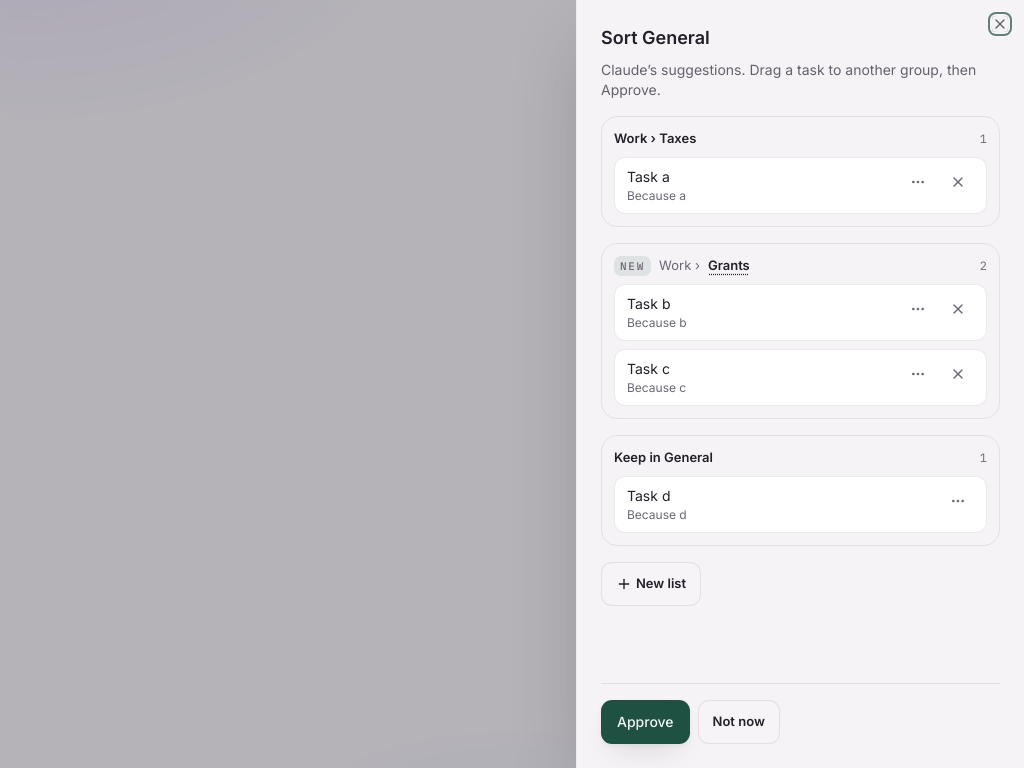
Test case: SortingSheet › renames a New group inline
This screenshot has width=1024, height=768.
Click the button with aria-label "Rename new list Grants": {"x": 729, "y": 266} [708,256,750,276]
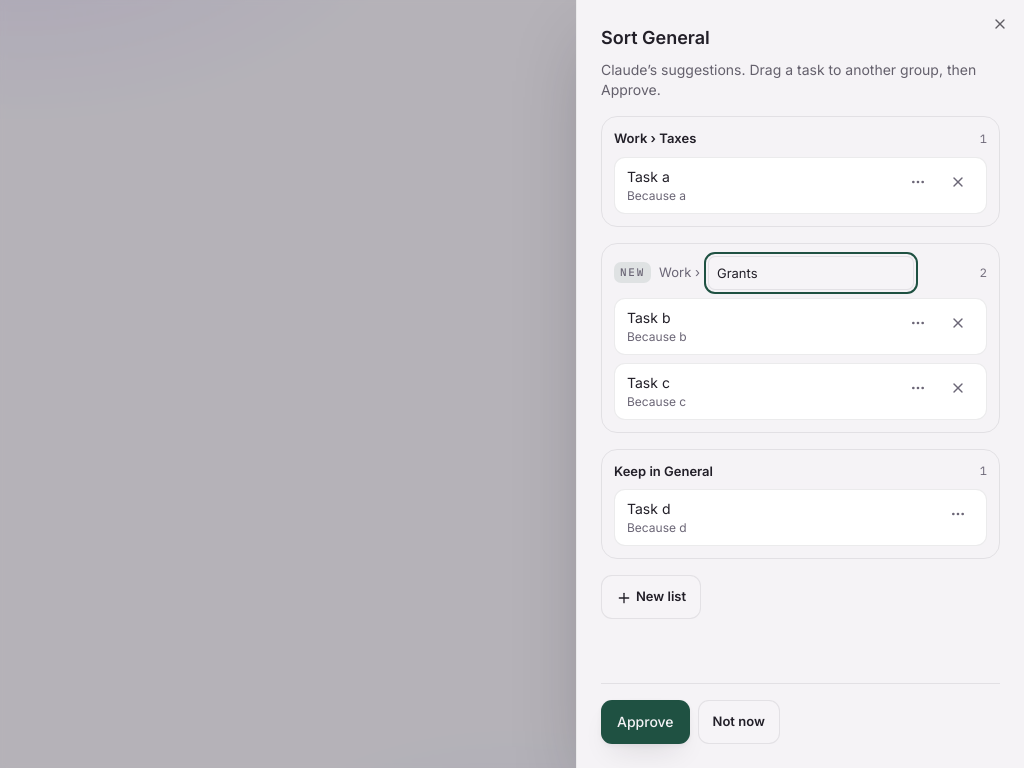
Replace the text in the field named "New list name" with "Taxes": {"x": 811, "y": 272} [708,256,914,290]
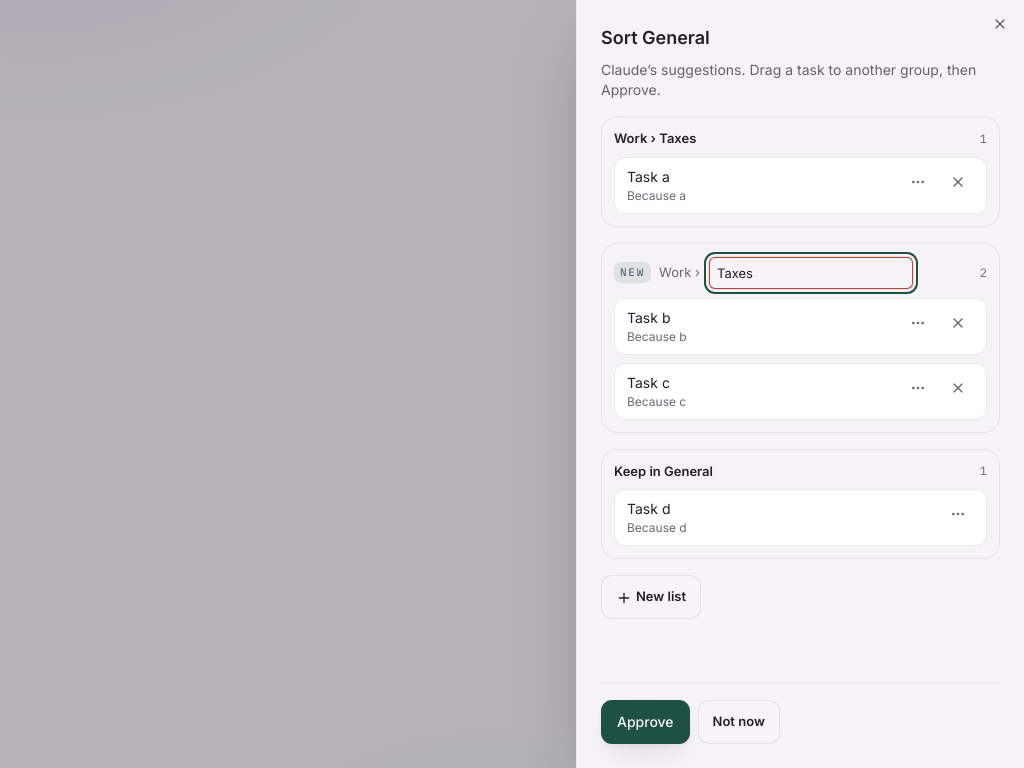
Now the field named "New list name" is marked as invalid
Replace the text in the field named "New list name" with "Funding": {"x": 811, "y": 272} [708,256,914,290]
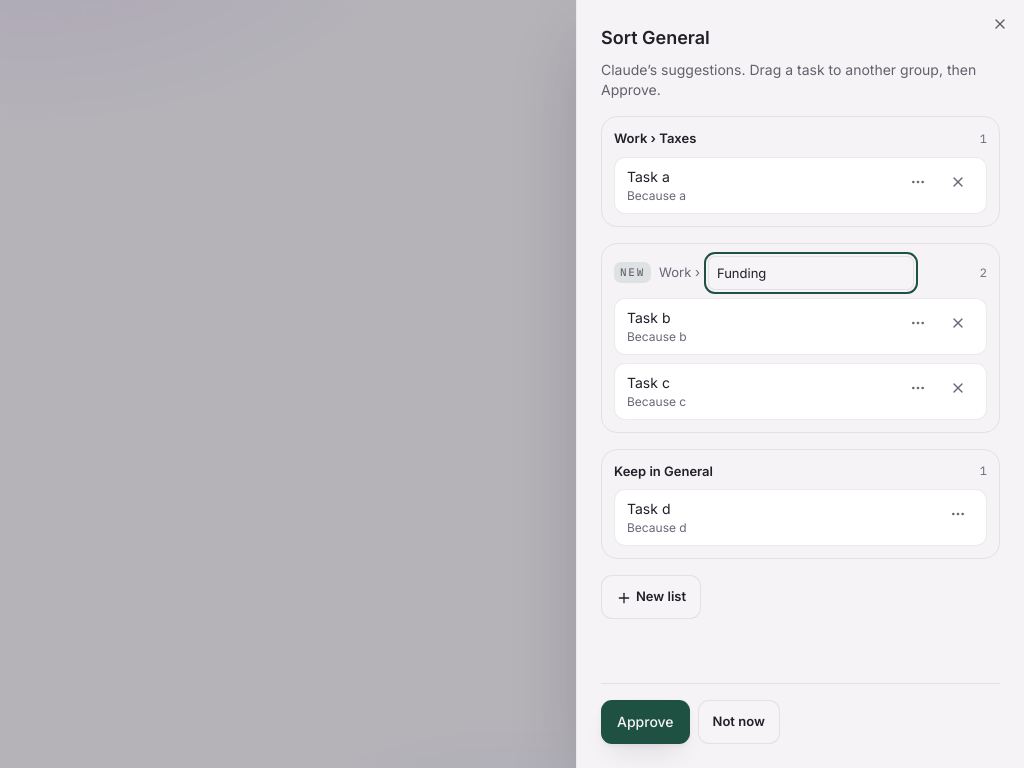
Press Enter in the field named "New list name", box [708,256,914,290]
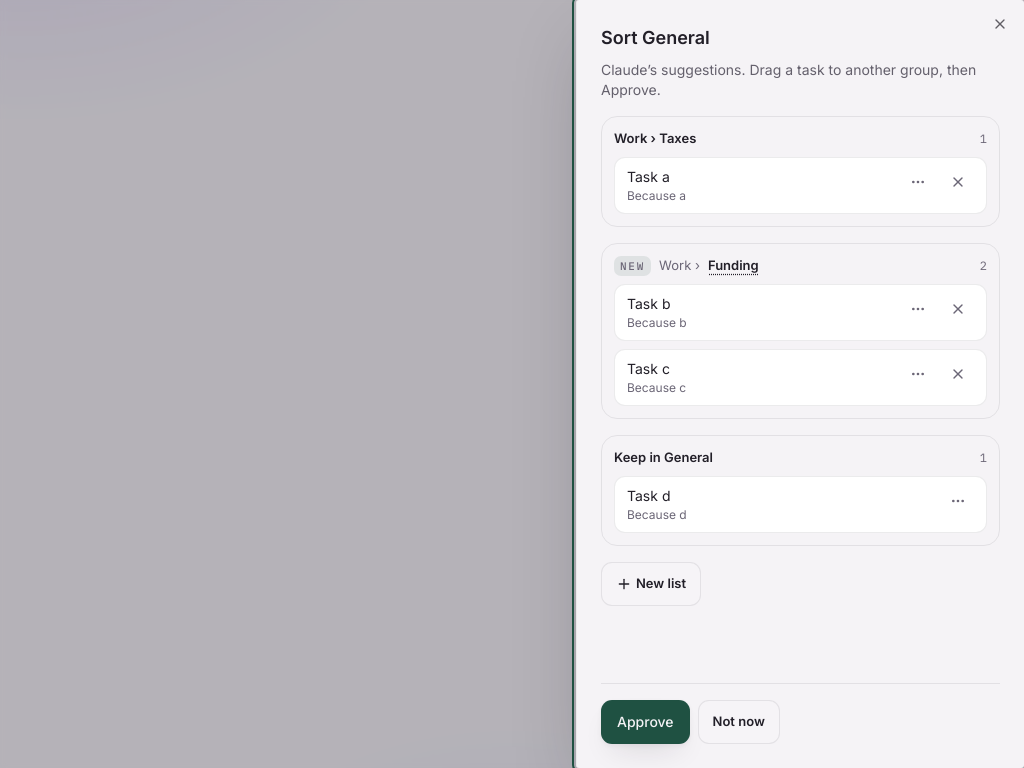
Now the button with aria-label "Rename new list Funding" is shown, box [708,256,759,276]
